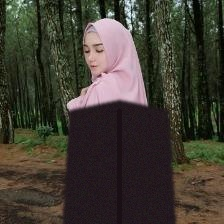Cadar_Niqab: (63, 18, 175, 224)
